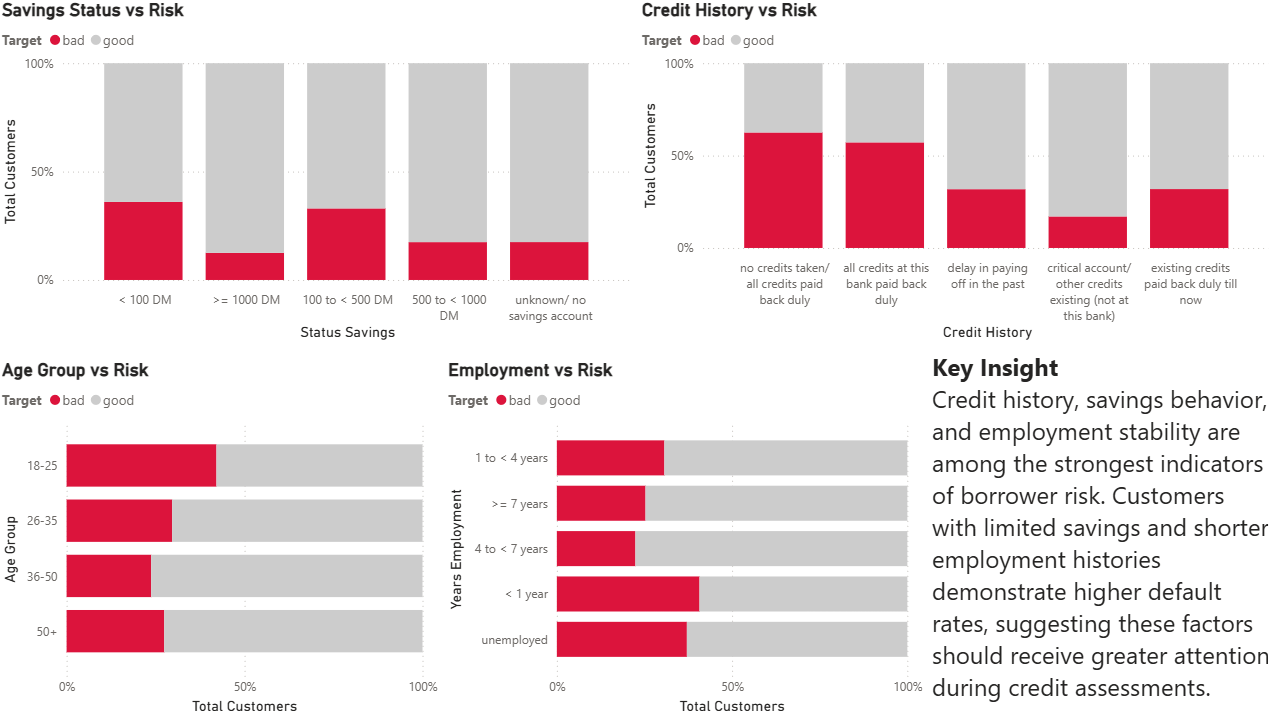

What the dashboard file says about the page in this screenshot:
{"tool":"powerbi","page":{"name":"Customer Risk Analysis","canvas":[1280,720],"ordinal":1},"visuals":[{"type":"hundredPercentStackedBarChart","title":"Age Group vs Risk","fields":{"Series":["Sheet1.target"],"Category":["Sheet1.age_group"],"Y":["CountNonNull(Sheet1.telephone)"]},"box":[0,360,445.7,360],"z":0},{"type":"hundredPercentStackedBarChart","title":"Employment vs Risk","fields":{"Category":["Sheet1.years_employment"],"Series":["Sheet1.target"],"Y":["CountNonNull(Sheet1.telephone)"]},"box":[445.7,360,484.3,360],"z":1000},{"type":"hundredPercentStackedColumnChart","title":"Savings Status vs Risk","fields":{"Category":["Sheet1.status_savings"],"Series":["Sheet1.target"],"Y":["CountNonNull(Sheet1.telephone)"]},"box":[0,0,640,345.7],"z":2000},{"type":"hundredPercentStackedColumnChart","title":"Credit History vs Risk","fields":{"Category":["Sheet1.credit_history"],"Series":["Sheet1.target"],"Y":["CountNonNull(Sheet1.telephone)"]},"box":[640,0,640,345.7],"z":3000},{"type":"textbox","box":[930.5,345.8,349.6,374.4],"z":3001}]}

Visuals, with their boxes in screenshot pixels (x1, y1, x2, y2), scaled from the page's 1280x720 canvas onto the 1272x716 screenshot:
"Age Group vs Risk" hundredPercentStackedBarChart: detection(0, 358, 443, 715)
"Employment vs Risk" hundredPercentStackedBarChart: detection(443, 358, 924, 715)
"Savings Status vs Risk" hundredPercentStackedColumnChart: detection(0, 0, 636, 344)
"Credit History vs Risk" hundredPercentStackedColumnChart: detection(636, 0, 1271, 344)
textbox: detection(925, 344, 1271, 715)
